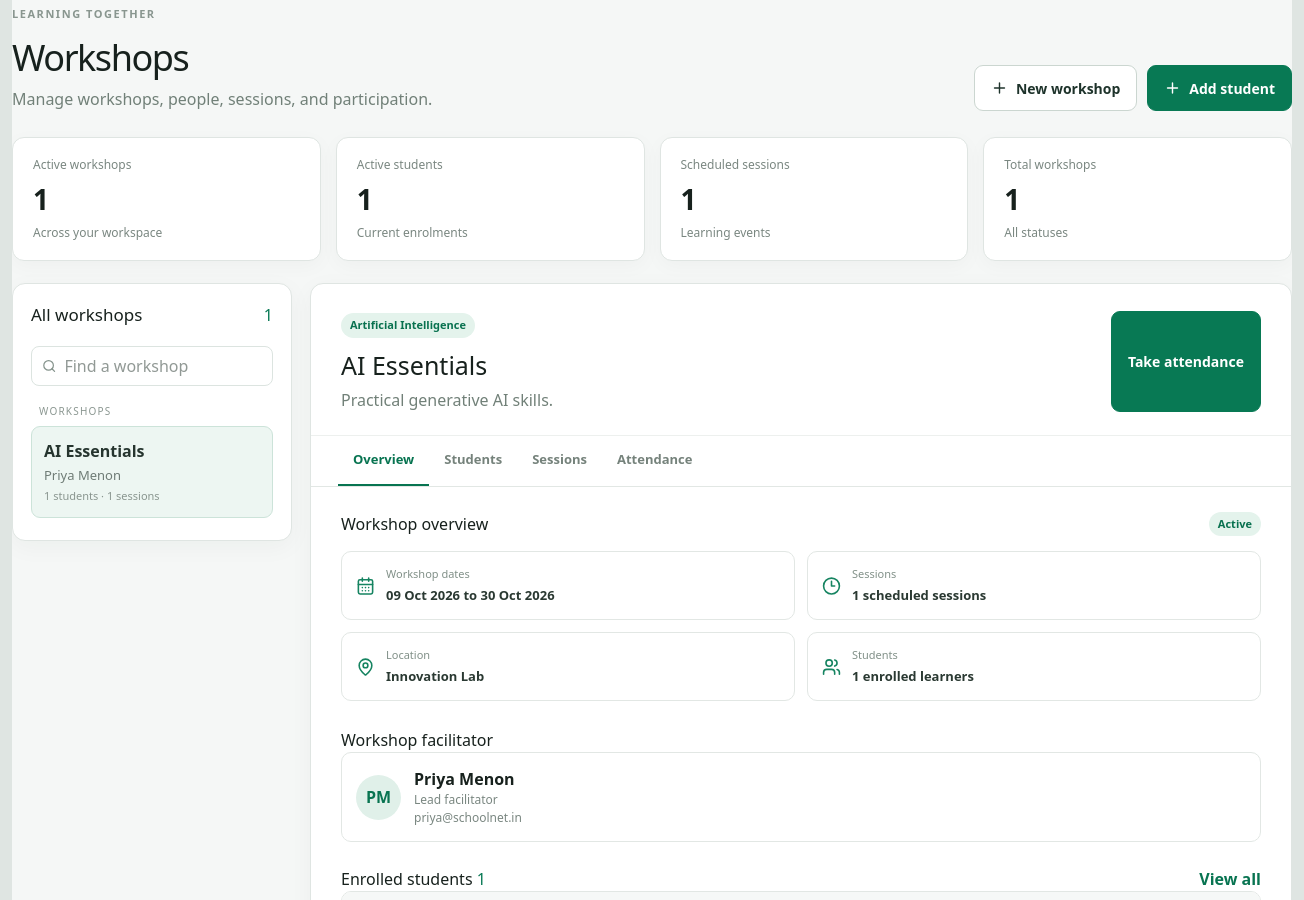
WorkshopsPage › filters workshops by their title
Type "design" into the search field labelled "Find a workshop" at x=163, y=366, box [64, 354, 262, 378]
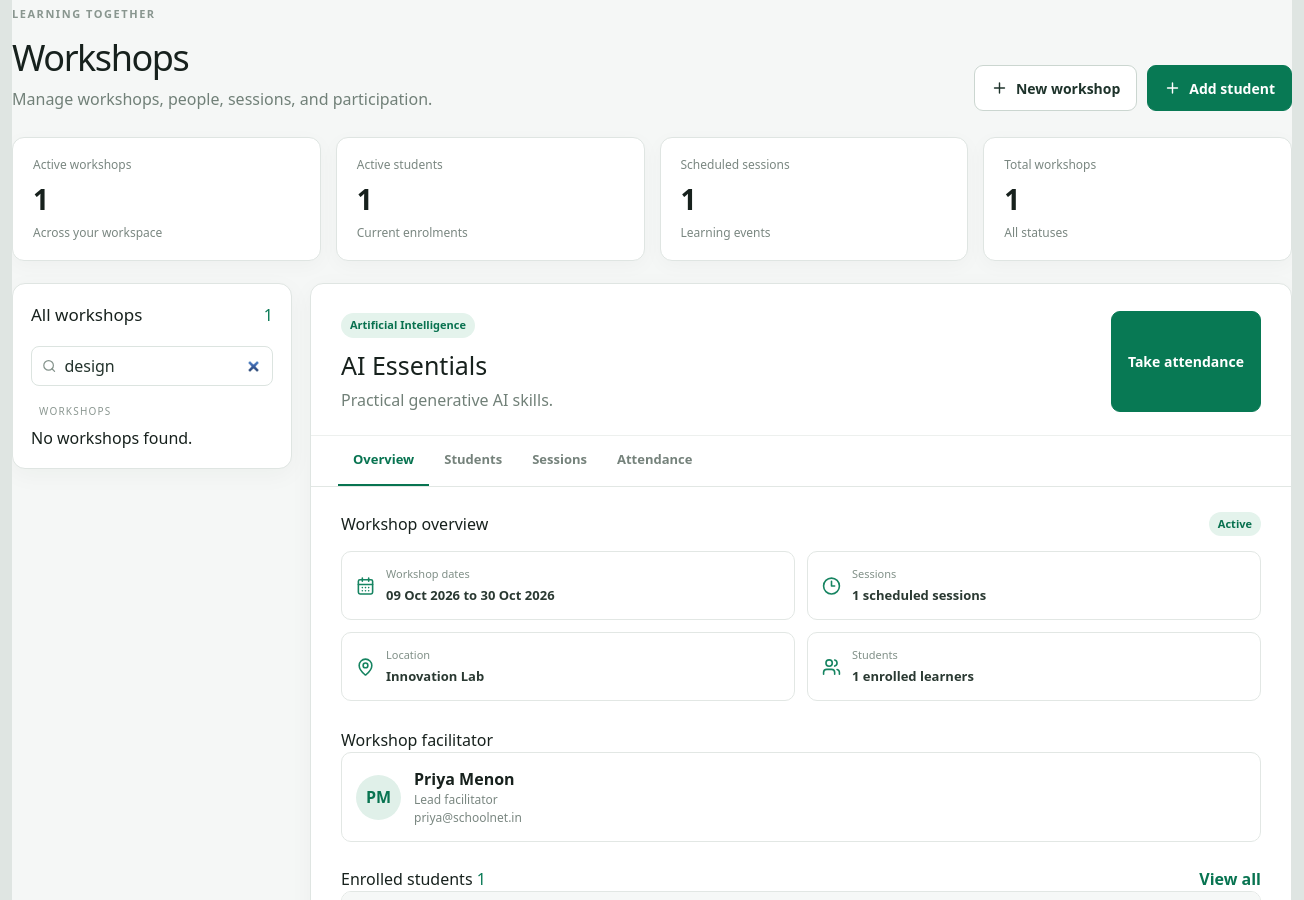
Result: the text "No workshops found." is shown at [31, 426, 192, 448]
